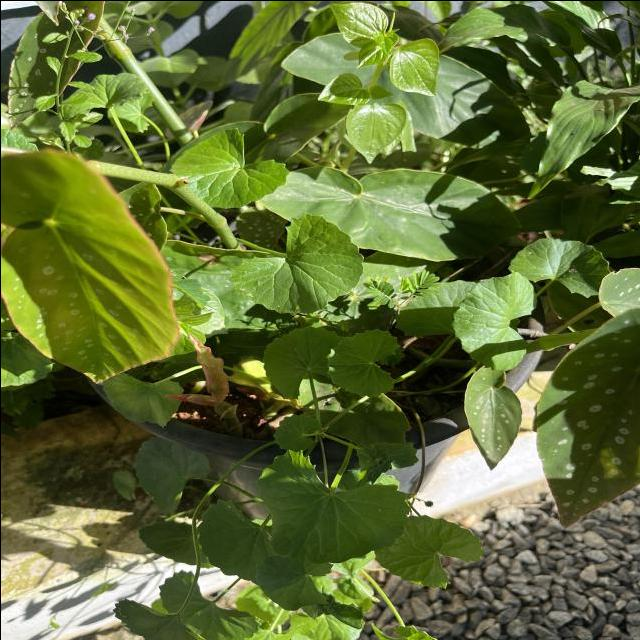Centella asiatica: (254, 446, 412, 564), (227, 210, 365, 315), (165, 124, 292, 212), (448, 267, 538, 372), (372, 512, 486, 589), (504, 235, 611, 299), (260, 324, 345, 400), (325, 326, 401, 399)
